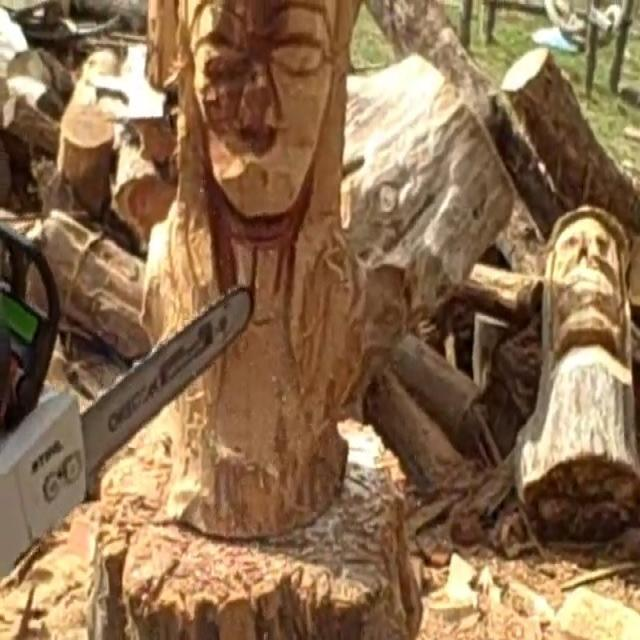Chainsaw: (0, 202, 267, 588)
